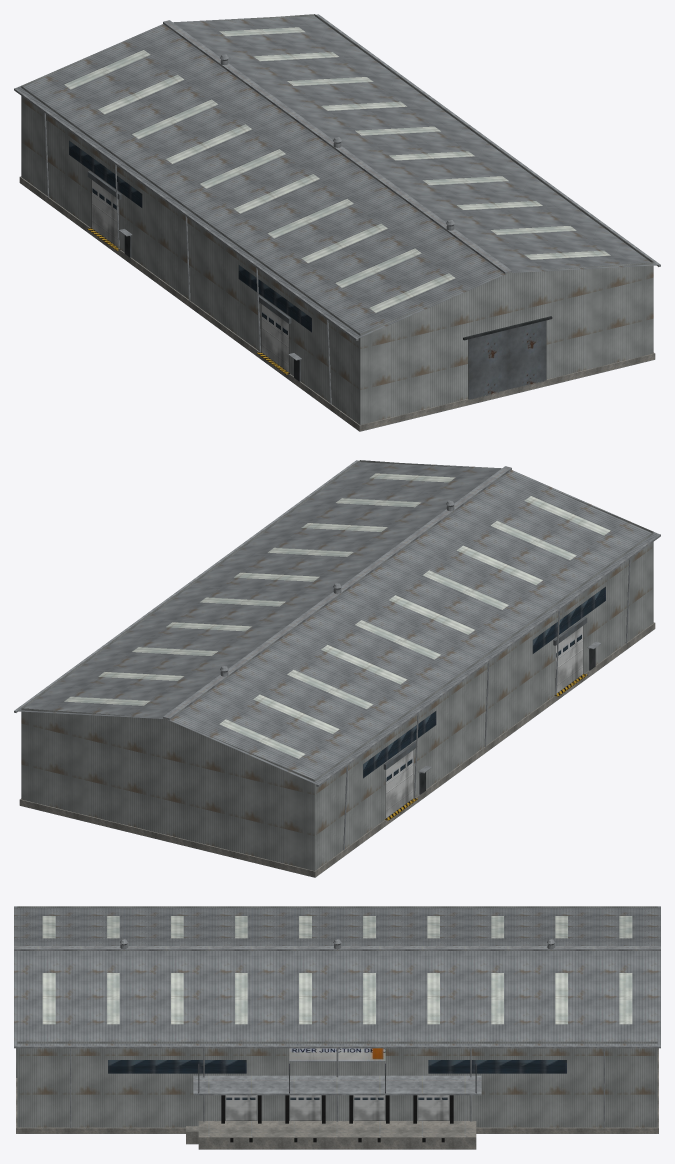
Rendered from wh_shed.glb.
The picture shows the model from 3 angles, top to bottom: view 1: azimuth 30°, elevation 25°; view 2: azimuth 150°, elevation 25°; view 3: azimuth 270°, elevation 25°; orthographic projection. The views are drawn at different scales.
Parts seen in each view (by area): view 1: body|props; view 2: body|props; view 3: body|props.
Part boxes in pixels (left/top/right/bottom): body|props: left=14, top=14, right=660, bottom=431; body|props: left=14, top=460, right=660, bottom=877; body|props: left=14, top=906, right=660, bottom=1149.
Bounding box in the file's own units: 34.6 × 13.05 × 60.6.
1 material, 1 textured.
